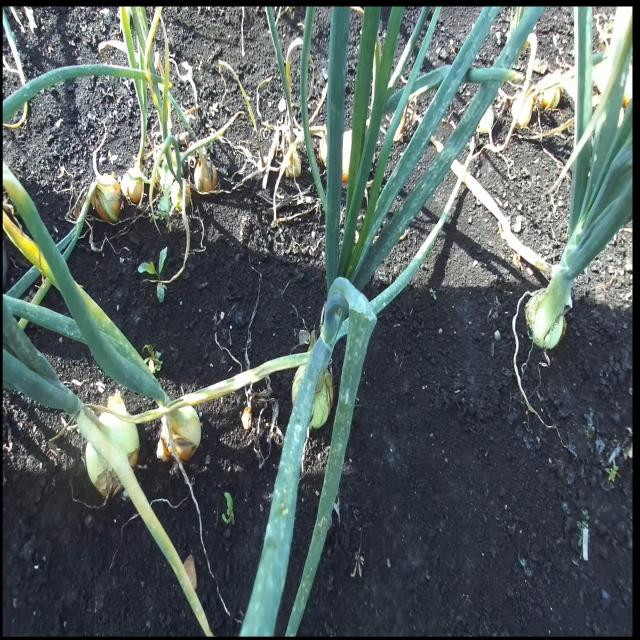onion: (83, 408, 140, 498), (291, 362, 334, 430), (91, 135, 123, 224), (157, 402, 201, 464), (193, 154, 219, 195)
